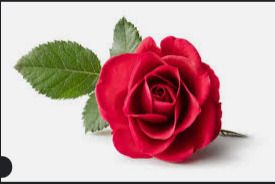RedRose: (77, 38, 232, 154)
